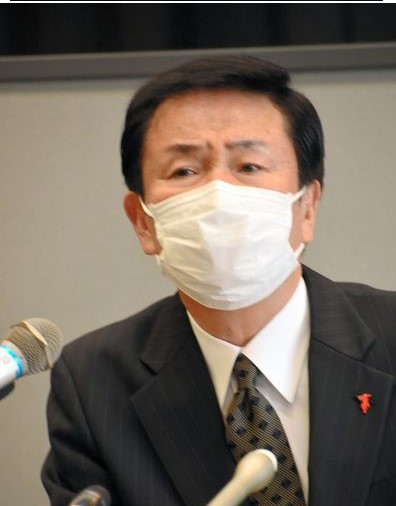face_with_mask: (120, 58, 327, 313)
